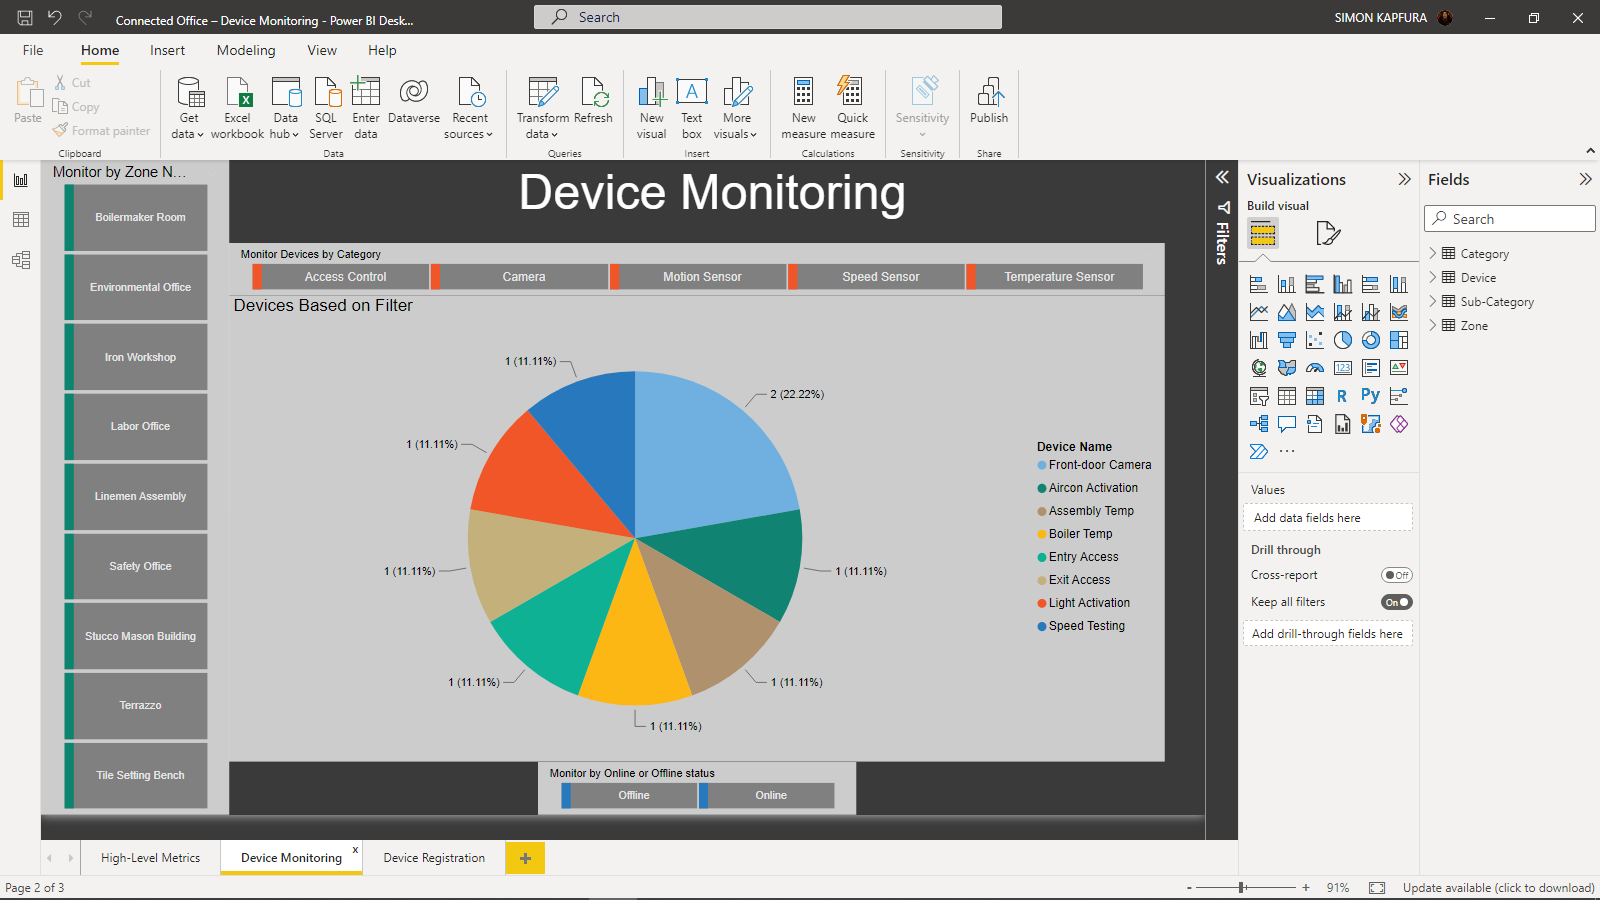

This screenshot's page, from the dashboard's own definition file:
{"tool":"powerbi","page":{"name":"Device Monitoring","canvas":[1280,720],"ordinal":1},"visuals":[{"type":"slicer","fields":{"Values":["Sub-Category1.Sub Category Name"]},"box":[206.7,91.3,1029.3,58.3],"z":0},{"type":"pieChart","title":"Devices Based on Filter","fields":{"Category":["Device1.Device Name"],"Y":["CountNonNull(Device1.Device Name)"]},"box":[206.7,149.6,1029.3,512.4],"z":1000},{"type":"slicer","fields":{"Values":["Device1.Device Status"]},"box":[546.5,662,349.7,58.3],"z":2000},{"type":"slicer","fields":{"Values":["Zone1.ZoneName"]},"box":[0,0,206.7,720.3],"z":3000},{"type":"textbox","box":[520.1,0,498.1,80.3],"z":4000}]}

Visuals, with their boxes on the page's 1280x720 design canvas (x1, y1, x2, y2). These are canvas units, not pixel positions in the 1600x900 screenshot, which may show the page scaled, cropped or inside an application window:
slicer - Sub-Category1.Sub Category Name: box(207, 91, 1236, 150)
"Devices Based on Filter" pieChart: box(207, 150, 1236, 662)
slicer - Device1.Device Status: box(546, 662, 896, 720)
slicer - Zone1.ZoneName: box(0, 0, 207, 720)
textbox: box(520, 0, 1018, 80)
